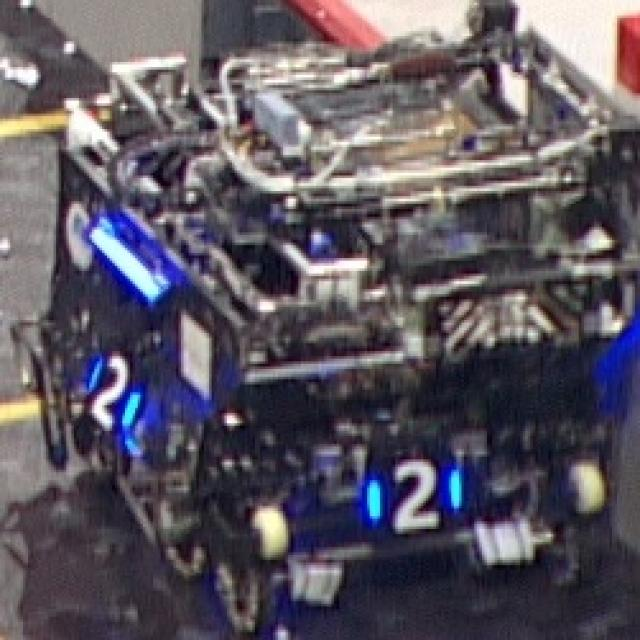B2: (358, 450, 466, 533), (76, 343, 146, 431)
